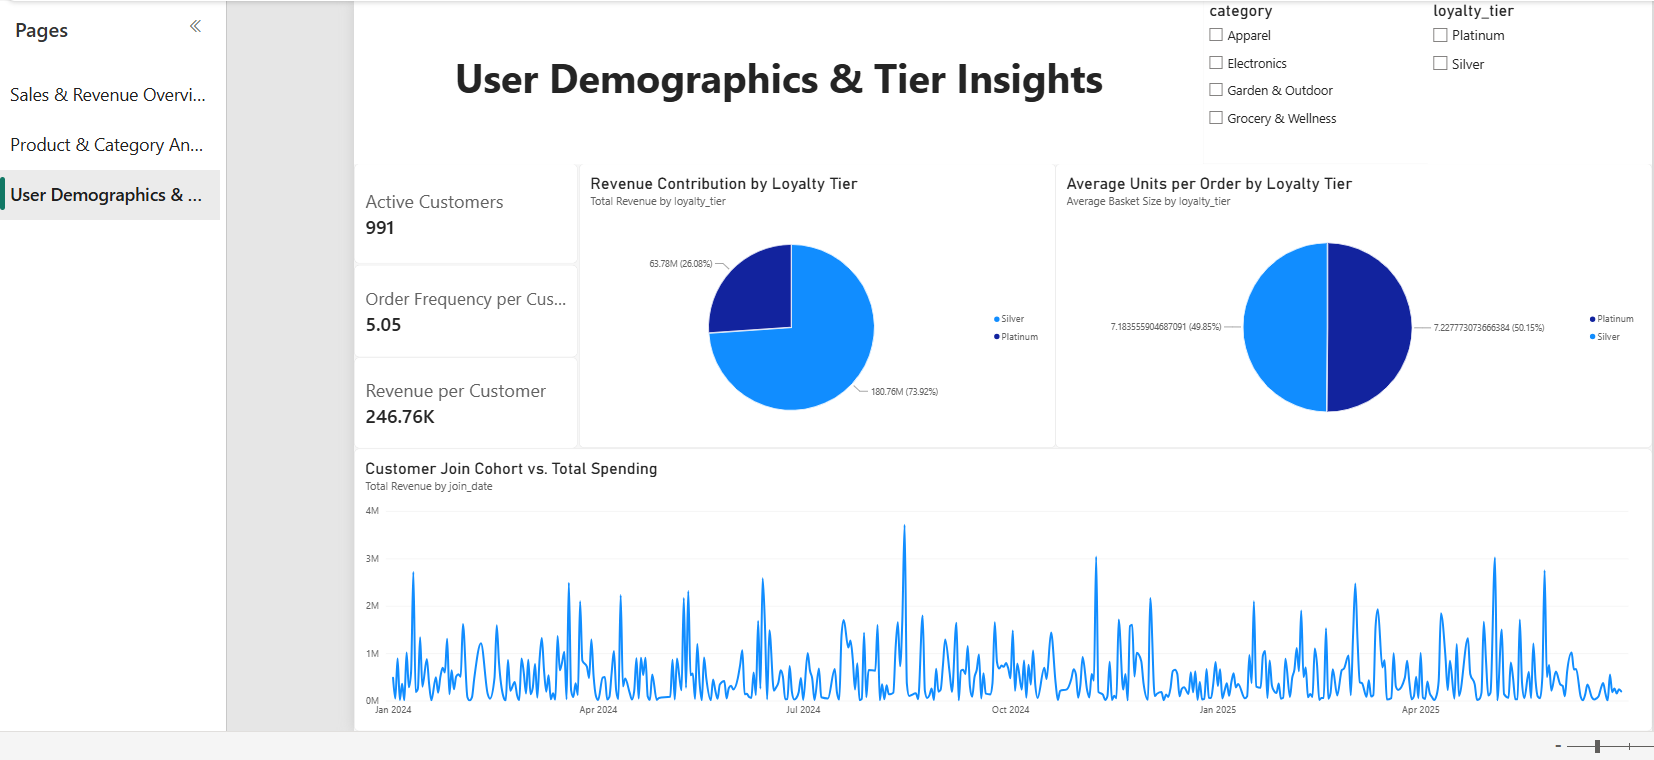

The page's visual inventory and layout, read from the dashboard file:
{"tool":"powerbi","page":{"name":"User Demographics & Tier Insights","canvas":[1920,1080],"ordinal":2},"visuals":[{"type":"pieChart","title":"Revenue Contribution by Loyalty Tier","fields":{"Category":["dim_user.loyalty_tier"],"Y":["fact_order_line.Total Revenue"]},"box":[332,241.2,706,420.5],"z":0},{"type":"lineChart","title":"Customer Join Cohort vs. Total Spending","fields":{"Category":["dim_user.join_date"],"Y":["fact_order_line.Total Revenue"]},"box":[0,661.7,1921,418.3],"z":1},{"type":"pieChart","title":"Average Units per Order by Loyalty Tier","fields":{"Category":["dim_user.loyalty_tier"],"Y":["fact_order_line.Average Basket Size"]},"box":[1038,241.2,883,420.5],"z":2},{"type":"cardVisual","fields":{"Data":["fact_order_line.Active Customers"]},"box":[0,241.2,332,148.3],"z":3},{"type":"cardVisual","fields":{"Data":["fact_order_line.Order Frequency per Customer"]},"box":[0,389.5,332,137.2],"z":4},{"type":"cardVisual","fields":{"Data":["fact_order_line.Revenue per Customer"]},"box":[0,526.7,332,135],"z":5},{"type":"slicer","fields":{"Values":["dim_user.loyalty_tier"]},"box":[1589,0,332,241.2],"z":6},{"type":"slicer","fields":{"Values":["dim_product.category"]},"box":[1257,0,332,241],"z":7},{"type":"textbox","box":[0,0,1257,241.2],"z":8}]}

Visuals, with their boxes on the page's 1920x1080 design canvas (x1, y1, x2, y2). These are canvas units, not pixel positions in the 1654x760 screenshot, which may show the page scaled, cropped or inside an application window:
"Revenue Contribution by Loyalty Tier" pieChart: bbox=(332, 241, 1038, 662)
"Customer Join Cohort vs. Total Spending" lineChart: bbox=(0, 662, 1921, 1080)
"Average Units per Order by Loyalty Tier" pieChart: bbox=(1038, 241, 1921, 662)
cardVisual - fact_order_line.Active Customers: bbox=(0, 241, 332, 390)
cardVisual - fact_order_line.Order Frequency per Customer: bbox=(0, 390, 332, 527)
cardVisual - fact_order_line.Revenue per Customer: bbox=(0, 527, 332, 662)
slicer - dim_user.loyalty_tier: bbox=(1589, 0, 1921, 241)
slicer - dim_product.category: bbox=(1257, 0, 1589, 241)
textbox: bbox=(0, 0, 1257, 241)
